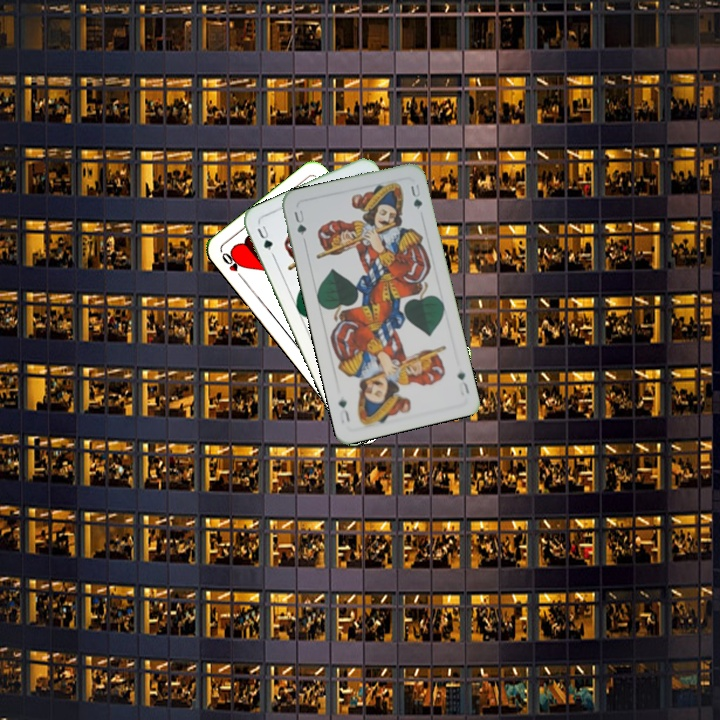GU: (253, 221, 277, 259), (290, 206, 309, 238), (453, 368, 472, 396)
HO: (218, 248, 247, 283)
